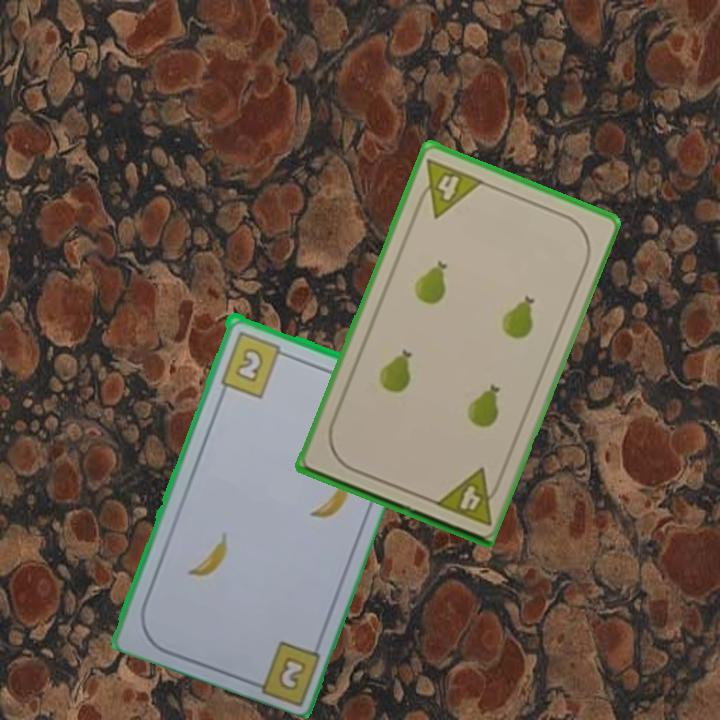2b: (217, 327, 291, 400), (274, 652, 309, 693)
4p: (411, 155, 486, 221), (430, 464, 505, 529)
